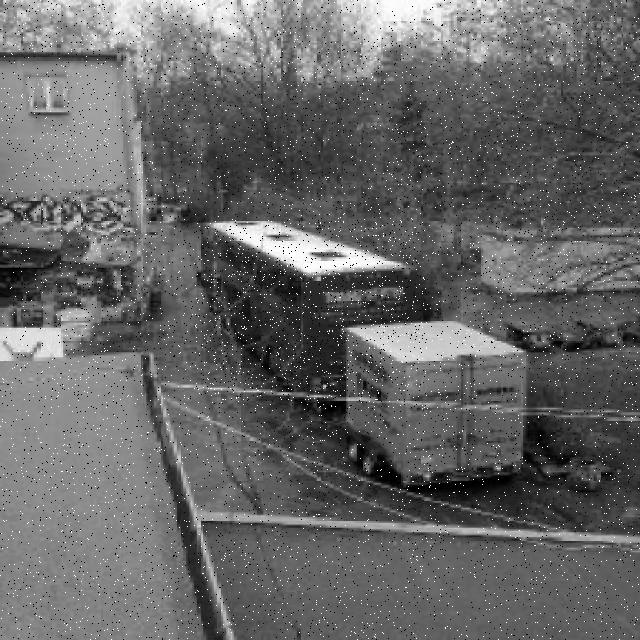Bus: (195, 221, 426, 403)
Trailer: (344, 321, 529, 490)
